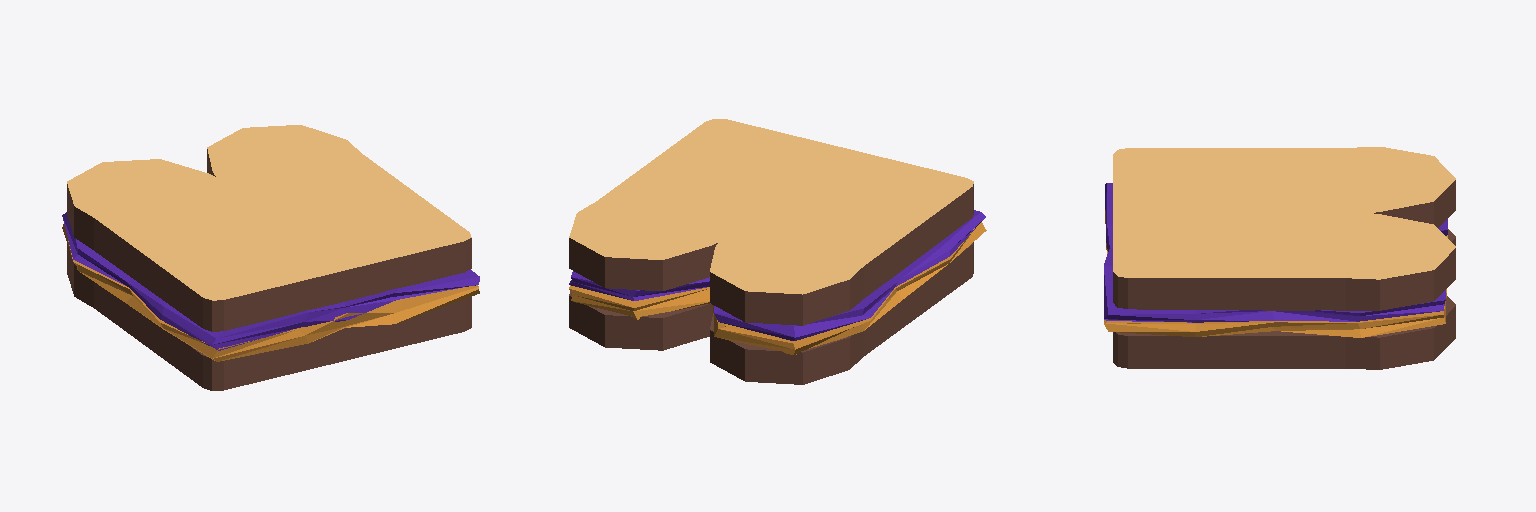
The model's file is Peanut_Butter___Jelly_Sandwich_01.obj.
3 views of the same model, side by side, from view 1: azimuth 30°, elevation 25°; view 2: azimuth 150°, elevation 25°; view 3: azimuth 270°, elevation 25° (orthographic).
Visible parts, largest first — view 1: Circle.005; view 2: Circle.005; view 3: Circle.005.
Part boxes in pixels (x1,y1,x2,y2): Circle.005: (62, 125, 479, 390); Circle.005: (569, 119, 986, 384); Circle.005: (1104, 147, 1455, 369).
Bounding box in the file's own units: 14.43 × 4.37 × 15.45.